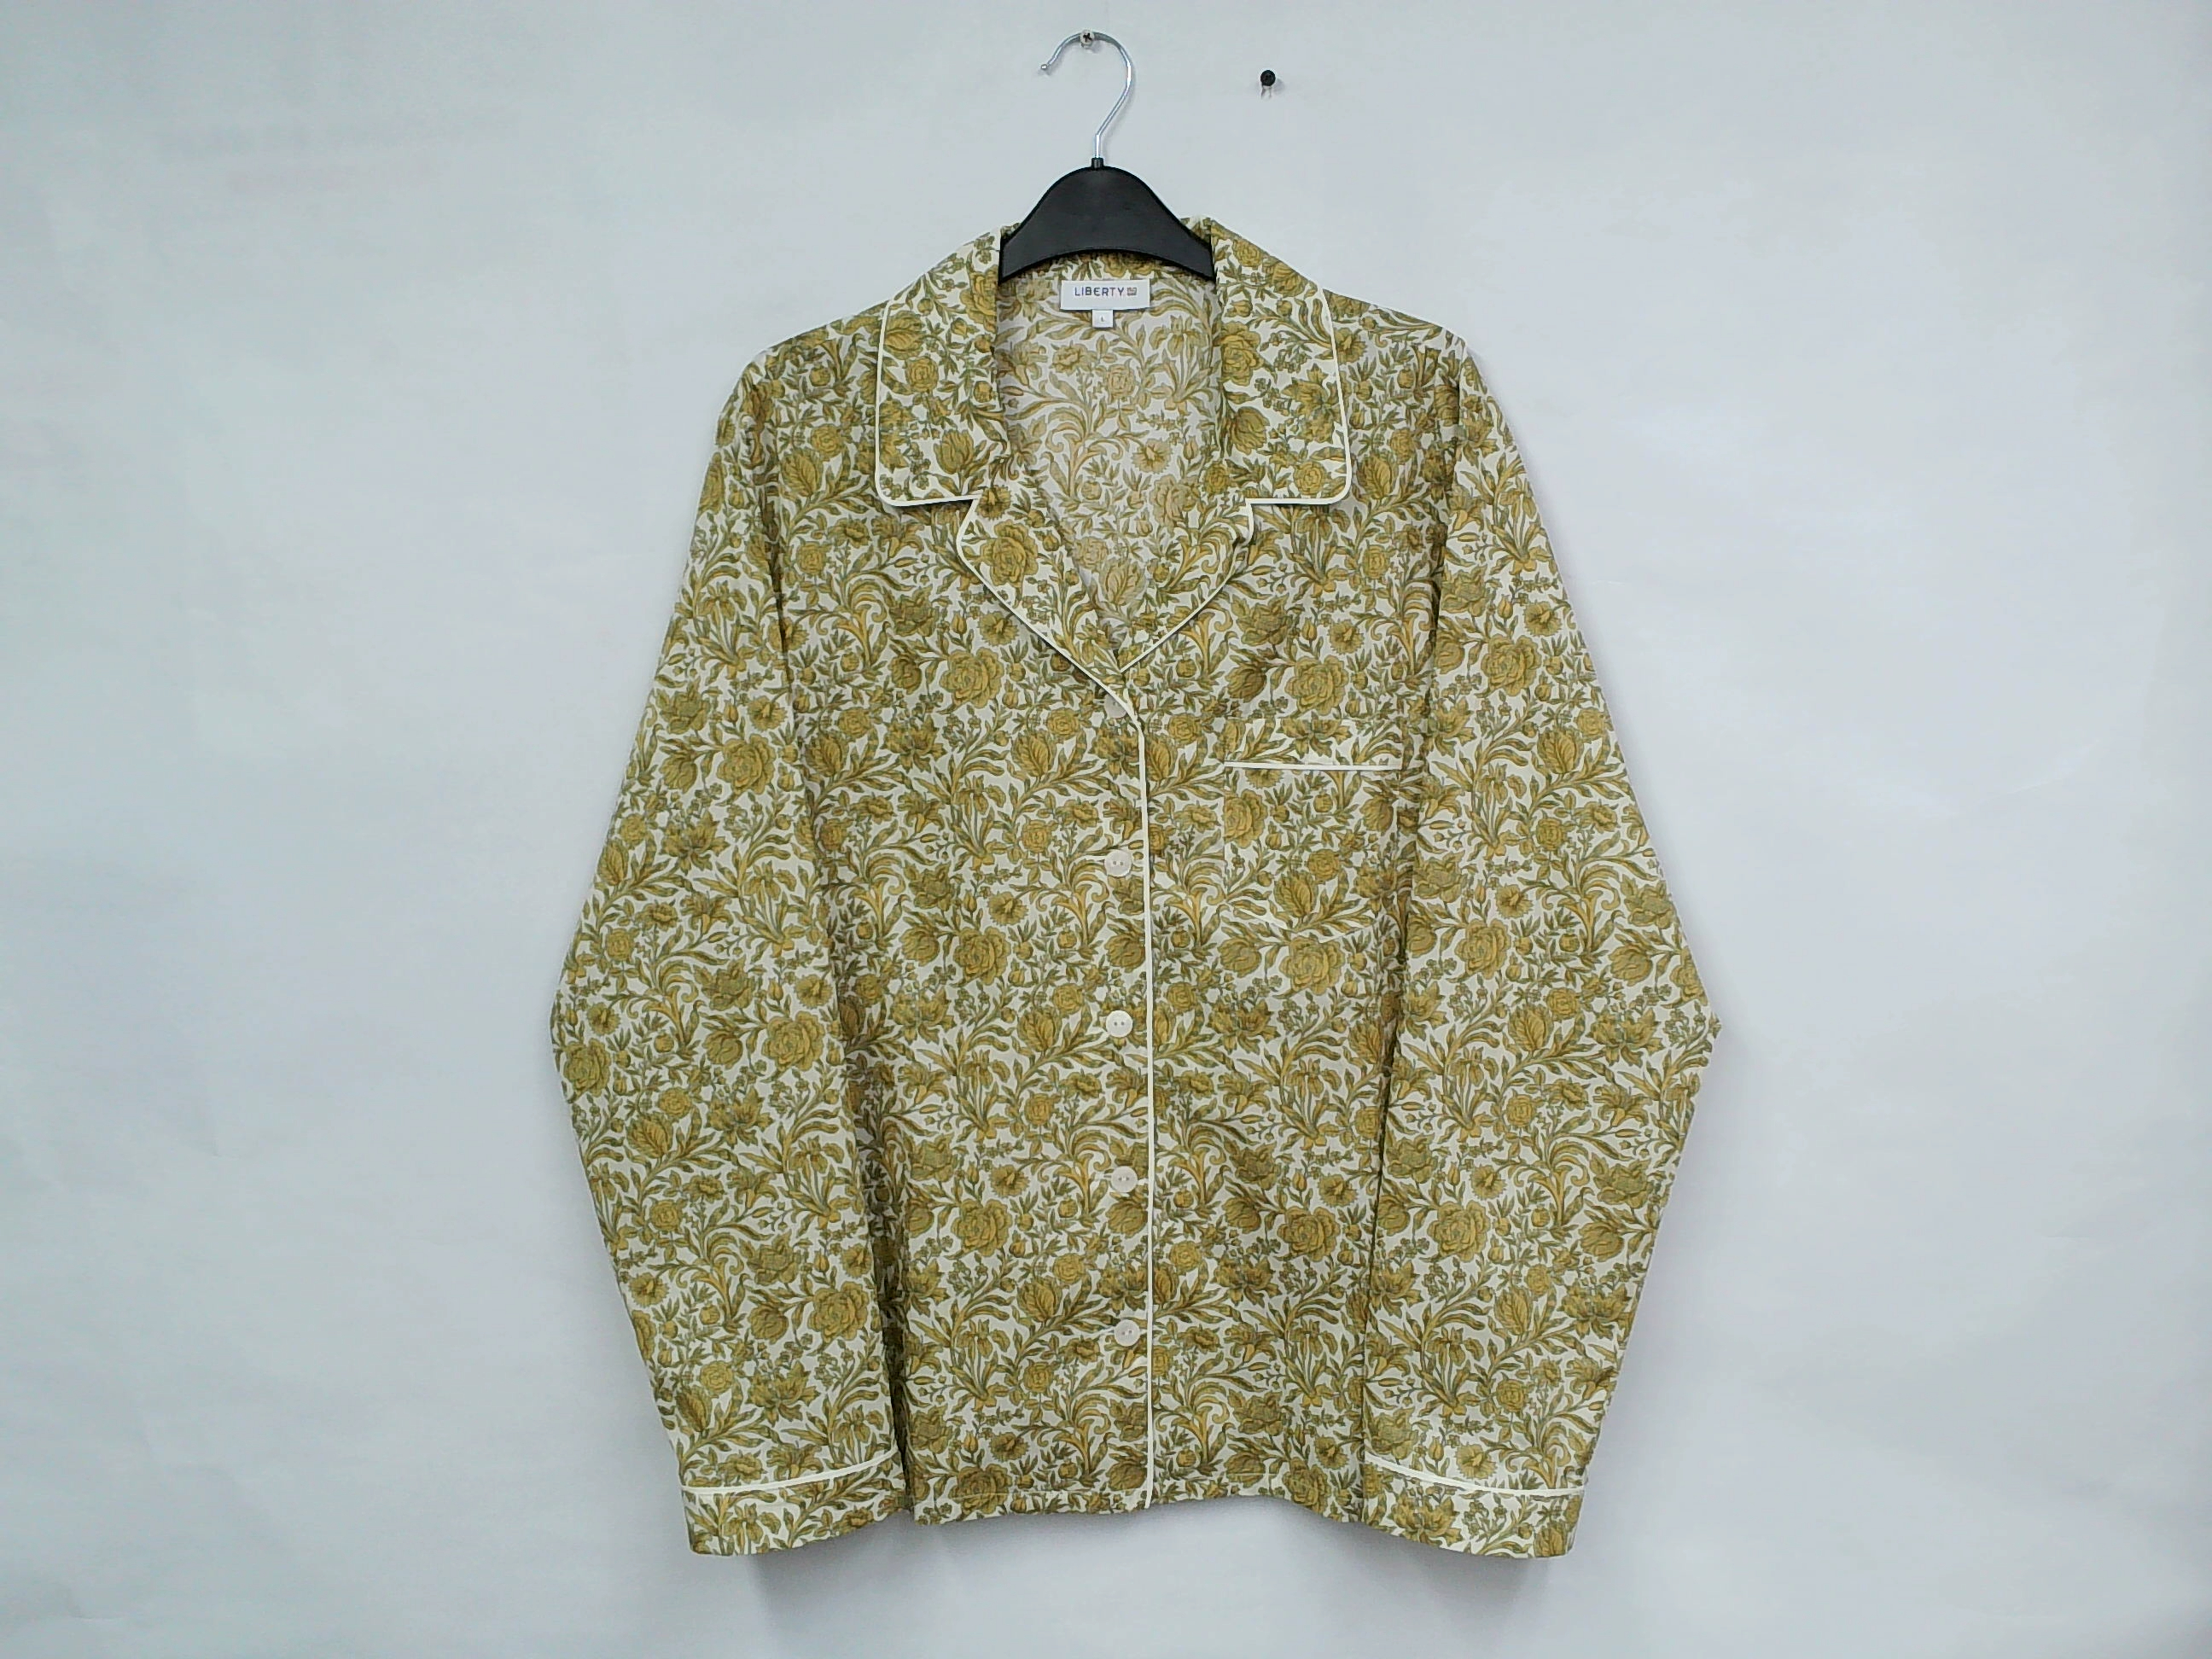deformation: (1188, 498, 1296, 592)
